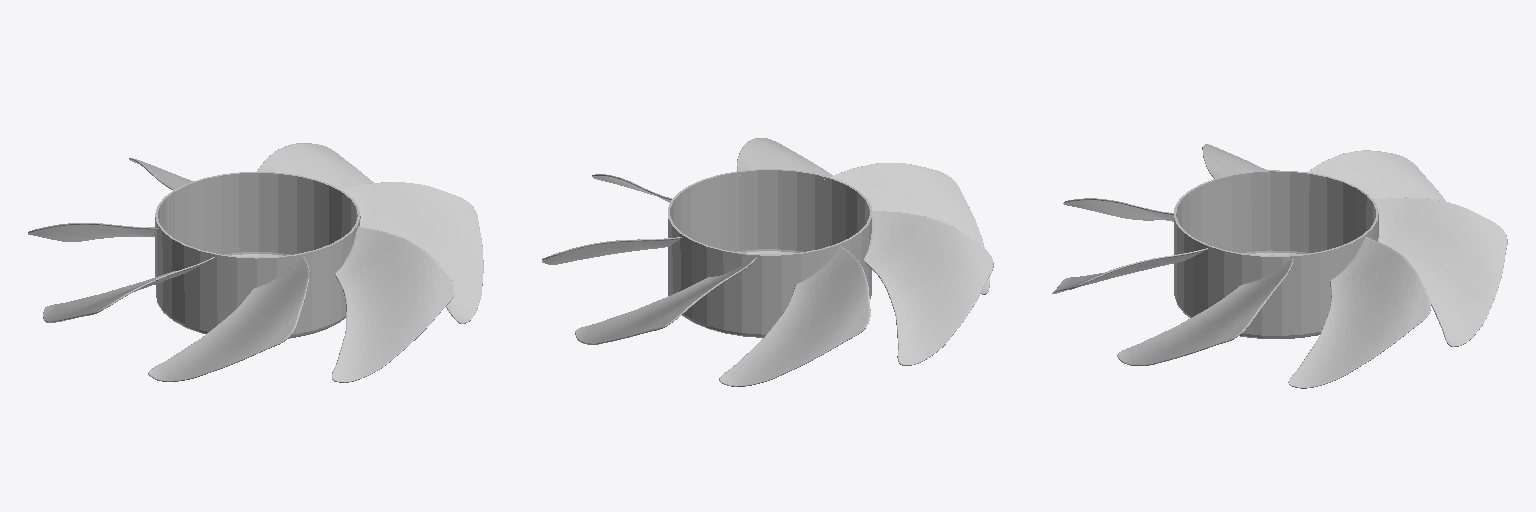
File: Fan blades.obj
3 renders of one model, left to right at view 1: azimuth 30°, elevation 25°; view 2: azimuth 150°, elevation 25°; view 3: azimuth 270°, elevation 25°, orthographic.
Parts seen in each view (by area): view 1: Fan_blades_Ebene_3_Kopie.003; view 2: Fan_blades_Ebene_3_Kopie.003; view 3: Fan_blades_Ebene_3_Kopie.003.
Part boxes in pixels (x1,y1,x2,y2): Fan_blades_Ebene_3_Kopie.003: (28, 143, 483, 382); Fan_blades_Ebene_3_Kopie.003: (542, 138, 993, 386); Fan_blades_Ebene_3_Kopie.003: (1052, 144, 1507, 388).
Size of the model in its own units: 0.0392 by 0.008 by 0.0393.